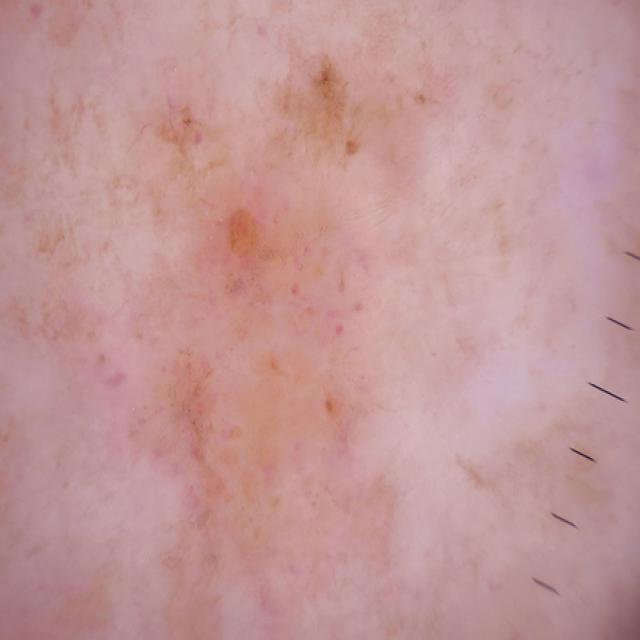Skin-Cancer Basal cell carcinoma: (52, 17, 560, 594)
